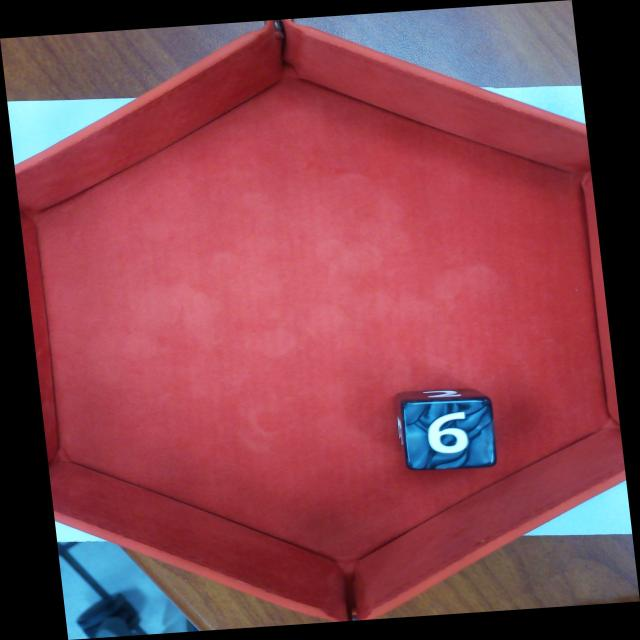dice: (401, 397, 497, 472)
